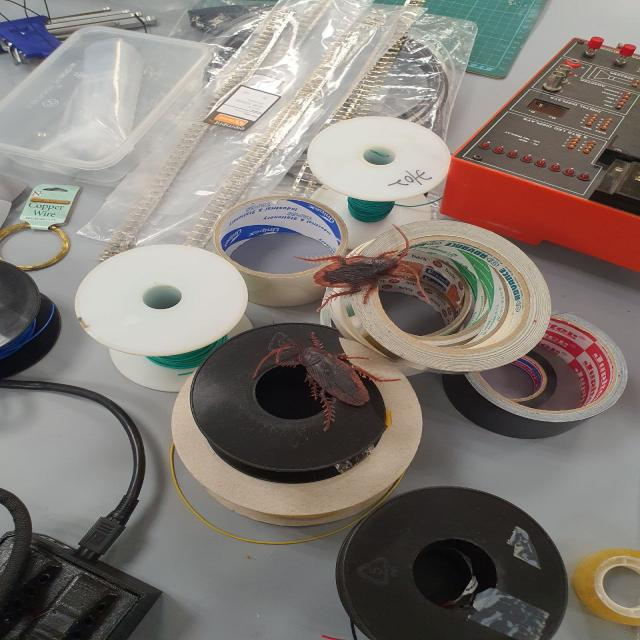Cockroach: (260, 331, 400, 419), (292, 226, 432, 310)
